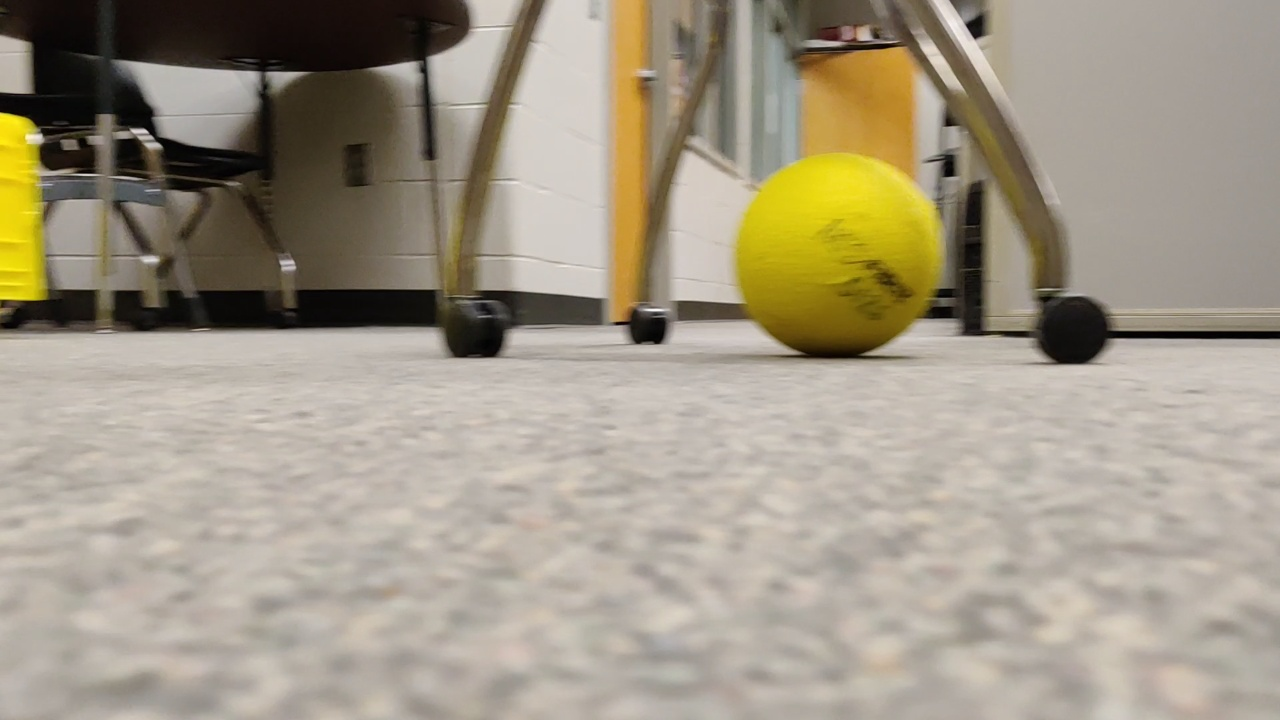Ball: (721, 143, 968, 370)
